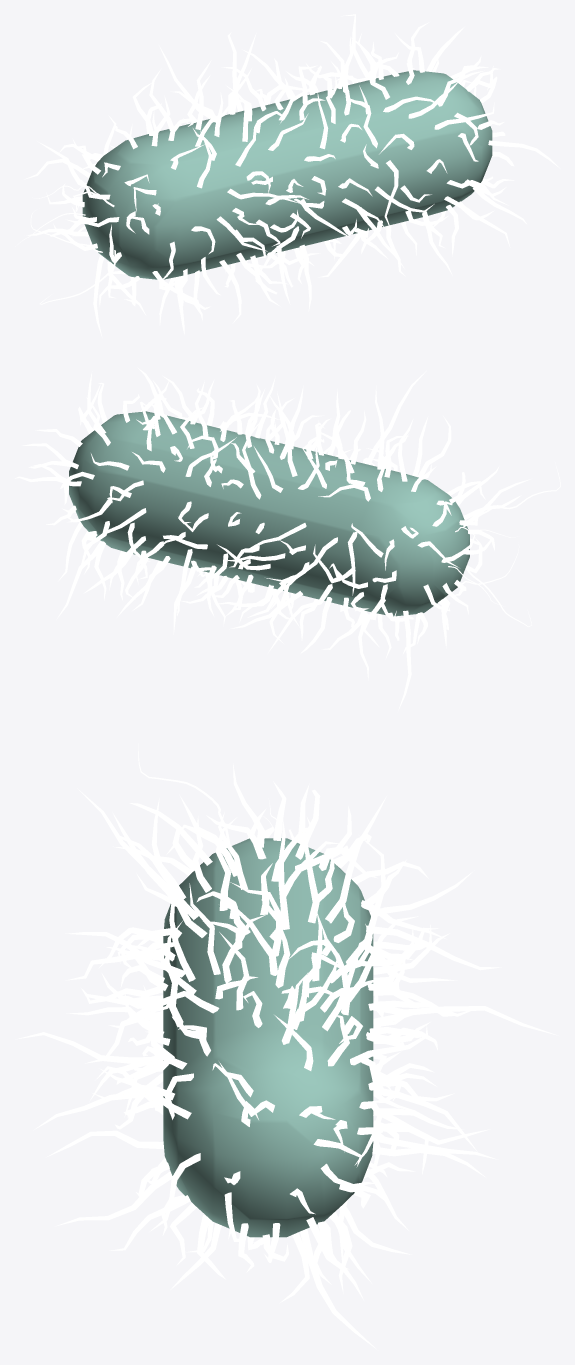
Rendered from sketchfab-bacterium-teal.glb.
The picture shows the model from 3 angles, top to bottom: view 1: azimuth 30°, elevation 25°; view 2: azimuth 150°, elevation 25°; view 3: azimuth 270°, elevation 25°; orthographic projection. The views are drawn at different scales.
Parts seen in each view (by area): view 1: Bacterium geo node body, Bacterium Hair, Bacterium geo node body end; view 2: Bacterium geo node body, Bacterium Hair, Bacterium geo node body end; view 3: Bacterium Hair, Bacterium geo node body.
Boxes of the visible parts, box(x1,y1,x2,y2) form: Bacterium geo node body: box(82, 70, 492, 279); Bacterium Hair: box(24, 14, 560, 337); Bacterium geo node body end: box(15, 185, 116, 304); Bacterium geo node body: box(69, 411, 469, 616); Bacterium Hair: box(15, 367, 530, 710); Bacterium geo node body end: box(448, 462, 560, 626); Bacterium Hair: box(15, 763, 558, 1349); Bacterium geo node body: box(163, 838, 373, 1237).
Bounding box in the file's own units: 8.92 × 4.95 × 5.9.
